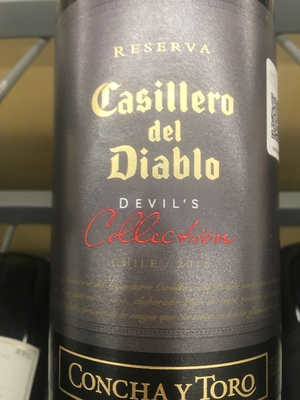casillero del diablo devils collection rojo: (51, 4, 279, 400)
